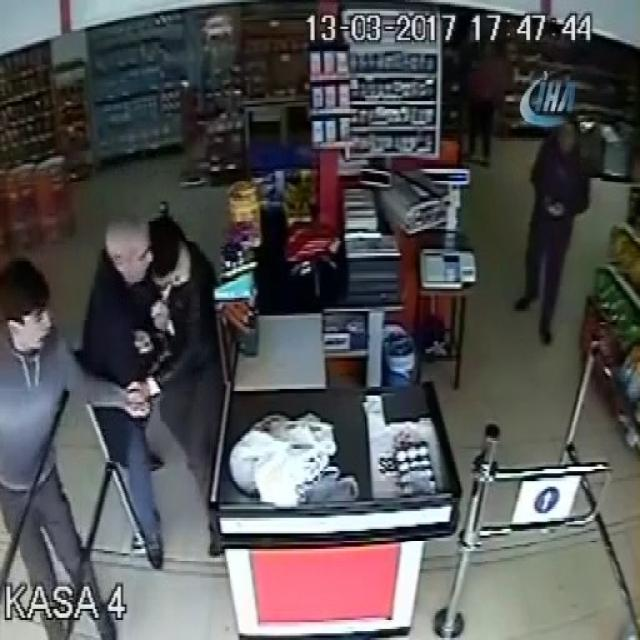fight: (91, 203, 229, 574)
